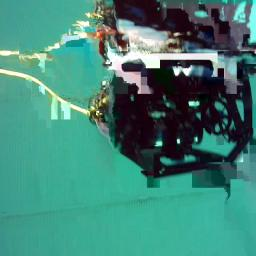Side: (89, 52, 256, 180)
